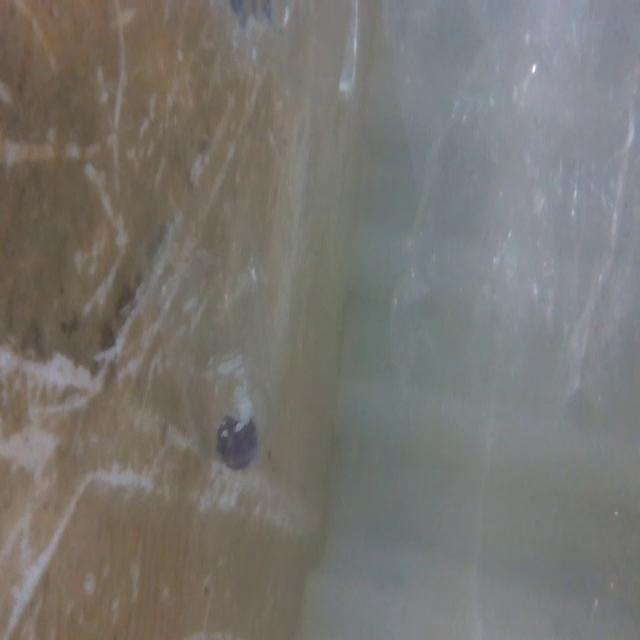plastic bags: (423, 0, 640, 444), (170, 0, 381, 108)
plastic bottle: (128, 181, 286, 480)
